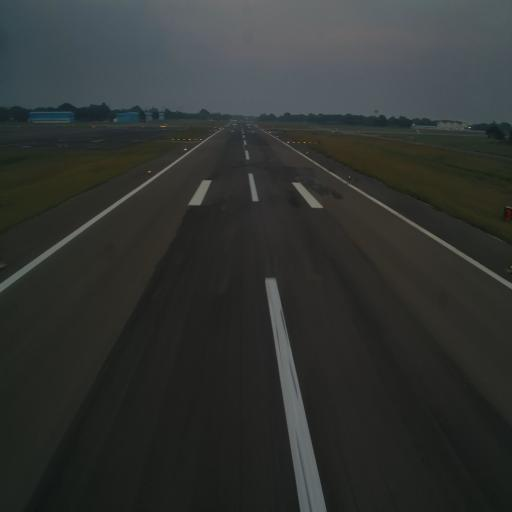on: (347, 174, 351, 181), (148, 168, 152, 175)
